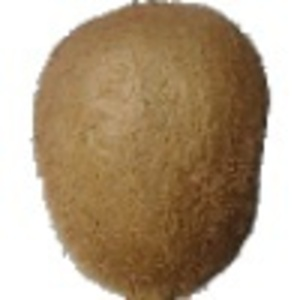kiwi: (30, 1, 272, 300)
